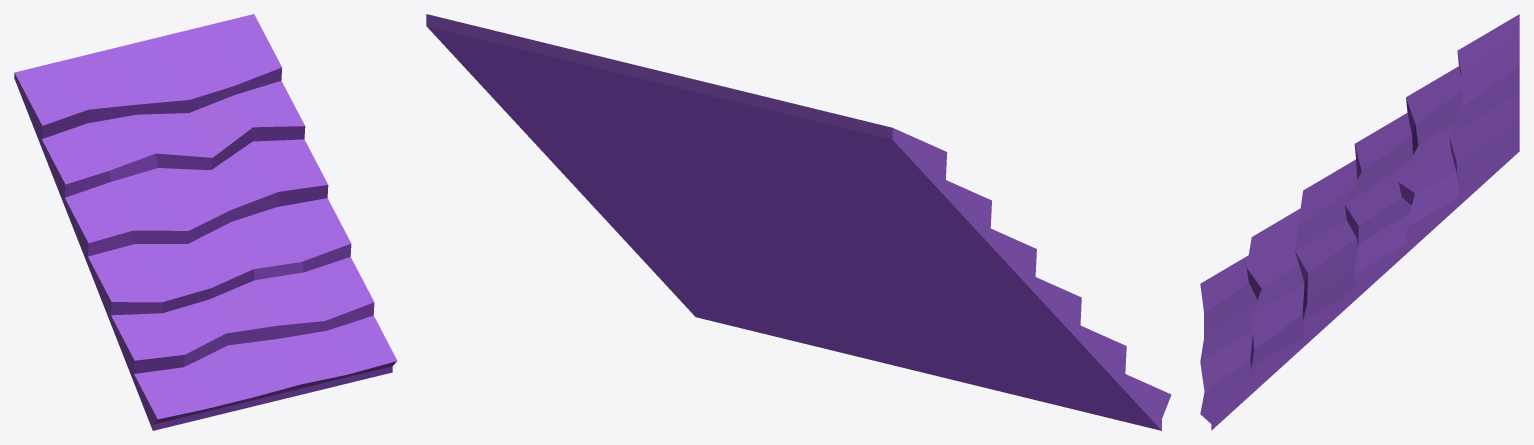
The model's file is Roof 02 Mid Angle.fbx.
3 renders of one model, left to right at view 1: azimuth 30°, elevation 25°; view 2: azimuth 150°, elevation 25°; view 3: azimuth 270°, elevation 25°, orthographic. The views are drawn at different scales.
Visible parts, largest first — view 1: Roof 02 Mid Angle; view 2: Roof 02 Mid Angle; view 3: Roof 02 Mid Angle.
Boxes of the visible parts, bbox=[...] form: Roof 02 Mid Angle: bbox=[14, 14, 397, 430]; Roof 02 Mid Angle: bbox=[426, 14, 1171, 430]; Roof 02 Mid Angle: bbox=[1200, 14, 1519, 430].
Bounding box in the file's own units: 400 × 410 × 414.
